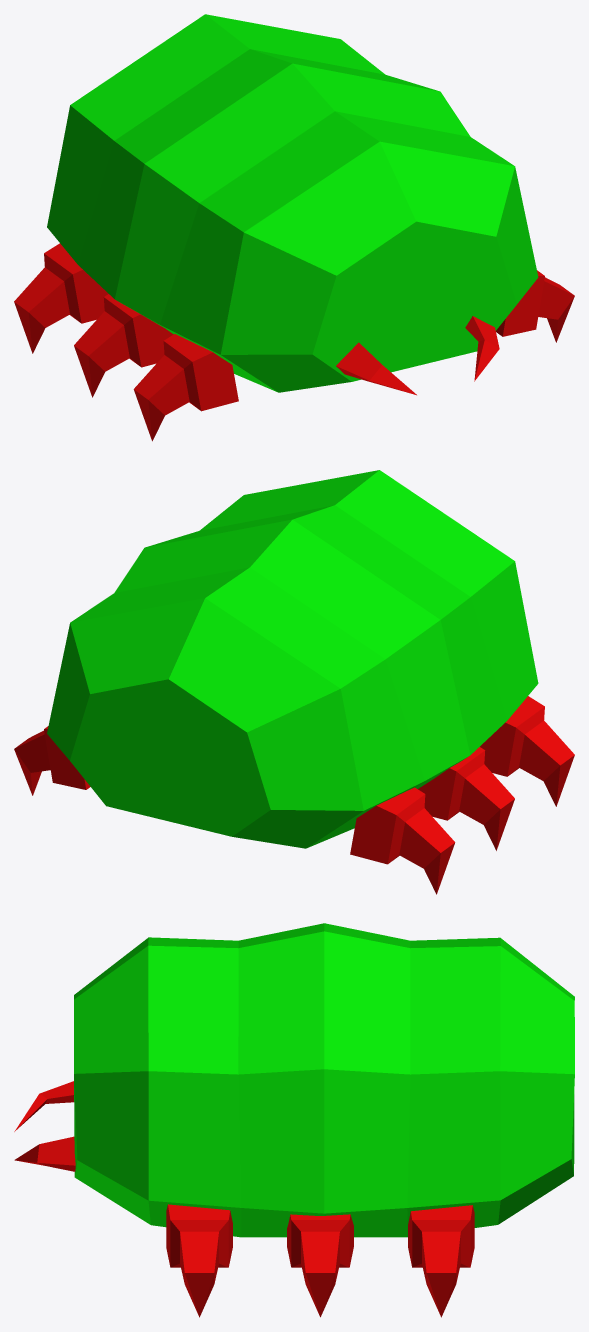
File: grubMESH.fbx
The picture shows the model from 3 angles, top to bottom: view 1: azimuth 30°, elevation 25°; view 2: azimuth 150°, elevation 25°; view 3: azimuth 270°, elevation 25°; orthographic projection.
Parts seen in each view (by area): view 1: Cube; view 2: Cube; view 3: Cube.
Boxes of the visible parts, <box> form: Cube: <box>14,14,574,441</box>; Cube: <box>14,470,574,894</box>; Cube: <box>14,923,574,1317</box>.
Bounding box in the file's own units: 2.47 × 1.57 × 2.78.
